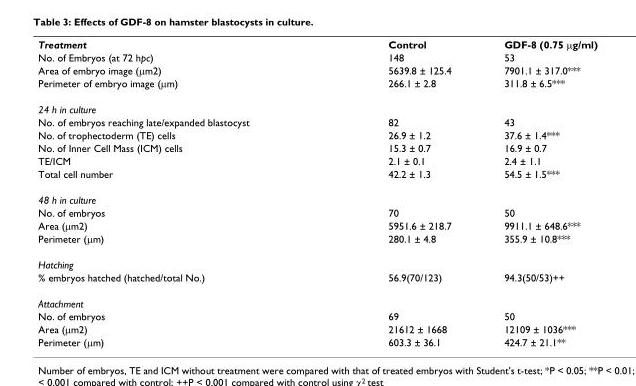table: (37, 37, 596, 347)
table column: (37, 37, 318, 347), (318, 37, 477, 347), (477, 37, 596, 347)
table projected row header: (37, 95, 596, 115), (37, 289, 596, 309), (37, 186, 596, 205), (37, 251, 596, 270)
table row: (37, 75, 596, 95), (37, 95, 596, 115), (37, 166, 596, 186), (37, 231, 596, 251), (37, 289, 596, 309), (37, 186, 596, 205), (37, 251, 596, 270), (37, 270, 596, 289), (37, 37, 596, 50), (37, 62, 596, 75), (37, 115, 596, 128), (37, 128, 596, 141), (37, 141, 596, 154), (37, 205, 596, 218), (37, 218, 596, 231), (37, 321, 596, 334), (37, 334, 596, 347), (37, 50, 596, 62), (37, 154, 596, 166), (37, 309, 596, 321)
